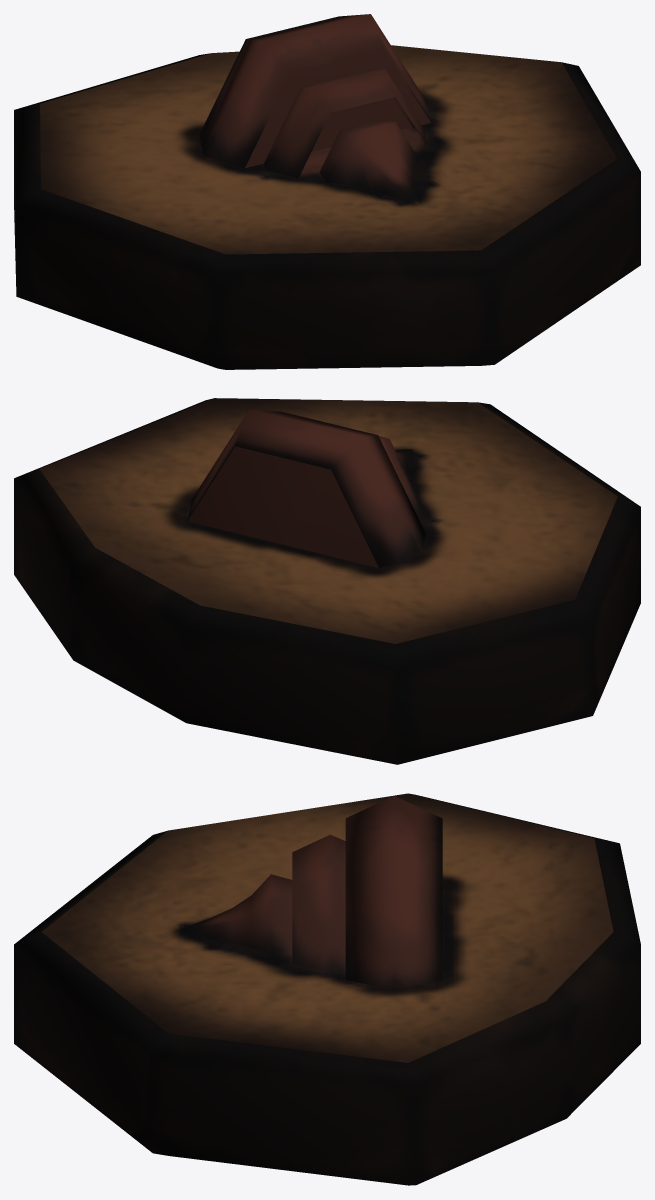
Rendered from unko.fbx.
3 views of the same model, one above another, from view 1: azimuth 30°, elevation 25°; view 2: azimuth 150°, elevation 25°; view 3: azimuth 270°, elevation 25° (orthographic). The views are drawn at different scales.
Parts seen in each view (by area): view 1: unko; view 2: unko; view 3: unko.
Part boxes in pixels (left/top/right/bottom): unko: left=14, top=14, right=640, bottom=369; unko: left=14, top=398, right=640, bottom=764; unko: left=14, top=793, right=640, bottom=1185.
Size of the model in its own units: 70.07 by 25.79 by 63.75.
